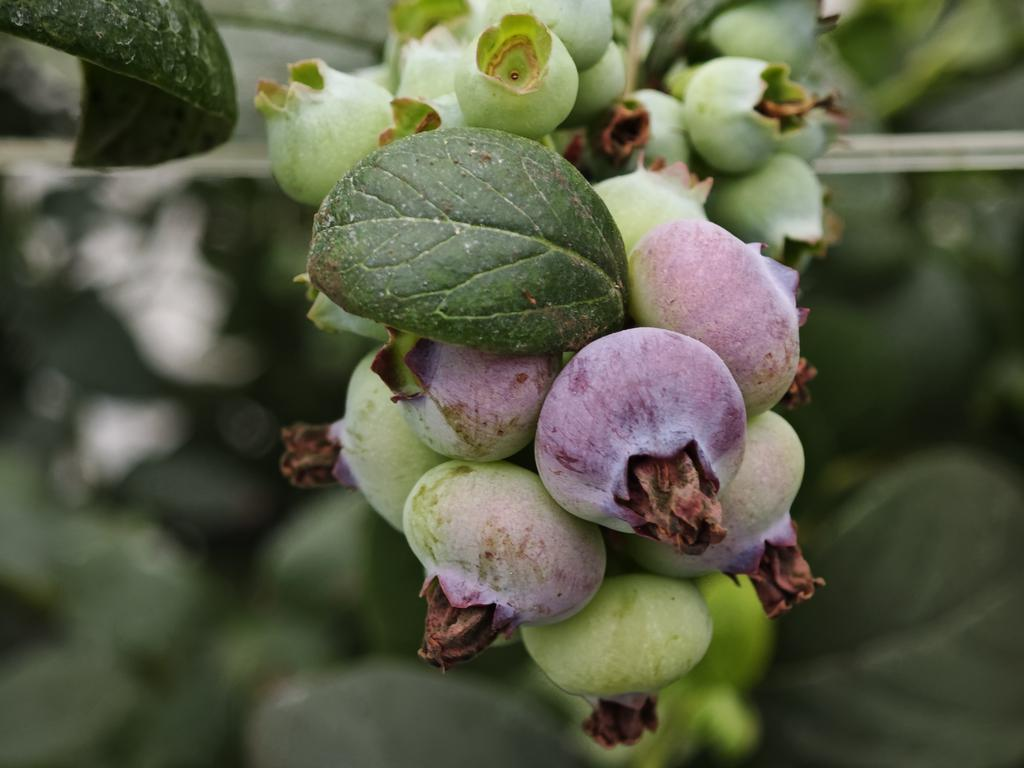Semi-RipeBlueBerry: (540, 323, 749, 541)
UnripeBlueBerry: (459, 18, 579, 130)
